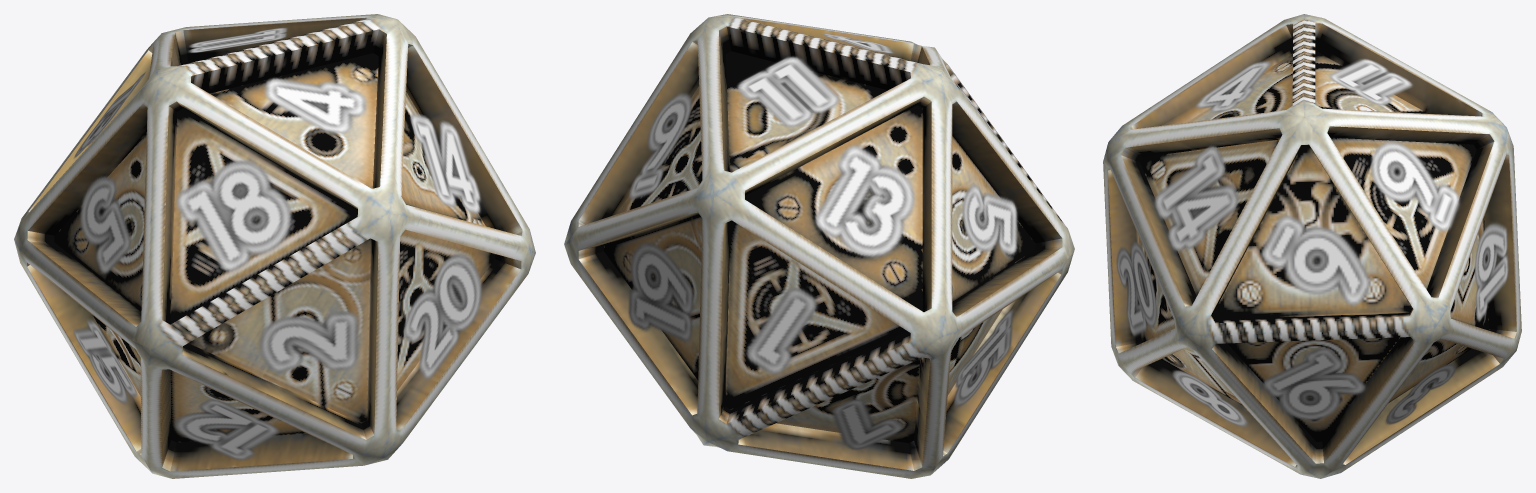
The picture shows the model from 3 angles, left to right: view 1: azimuth 30°, elevation 25°; view 2: azimuth 150°, elevation 25°; view 3: azimuth 270°, elevation 25°; orthographic projection. The views are drawn at different scales.
Parts seen in each view (by area): view 1: D20, D20_Numbers; view 2: D20, D20_Numbers; view 3: D20, D20_Numbers.
Part boxes in pixels (left/top/right/bottom): D20: left=14, top=14, right=535, bottom=478; D20_Numbers: left=73, top=28, right=482, bottom=460; D20: left=564, top=14, right=1074, bottom=478; D20_Numbers: left=628, top=33, right=1017, bottom=449; D20: left=1103, top=14, right=1521, bottom=478; D20_Numbers: left=1116, top=58, right=1508, bottom=427.
Bounding box in the file's own units: 1.85 × 1.85 × 1.88.
2 materials, 2 textured.
